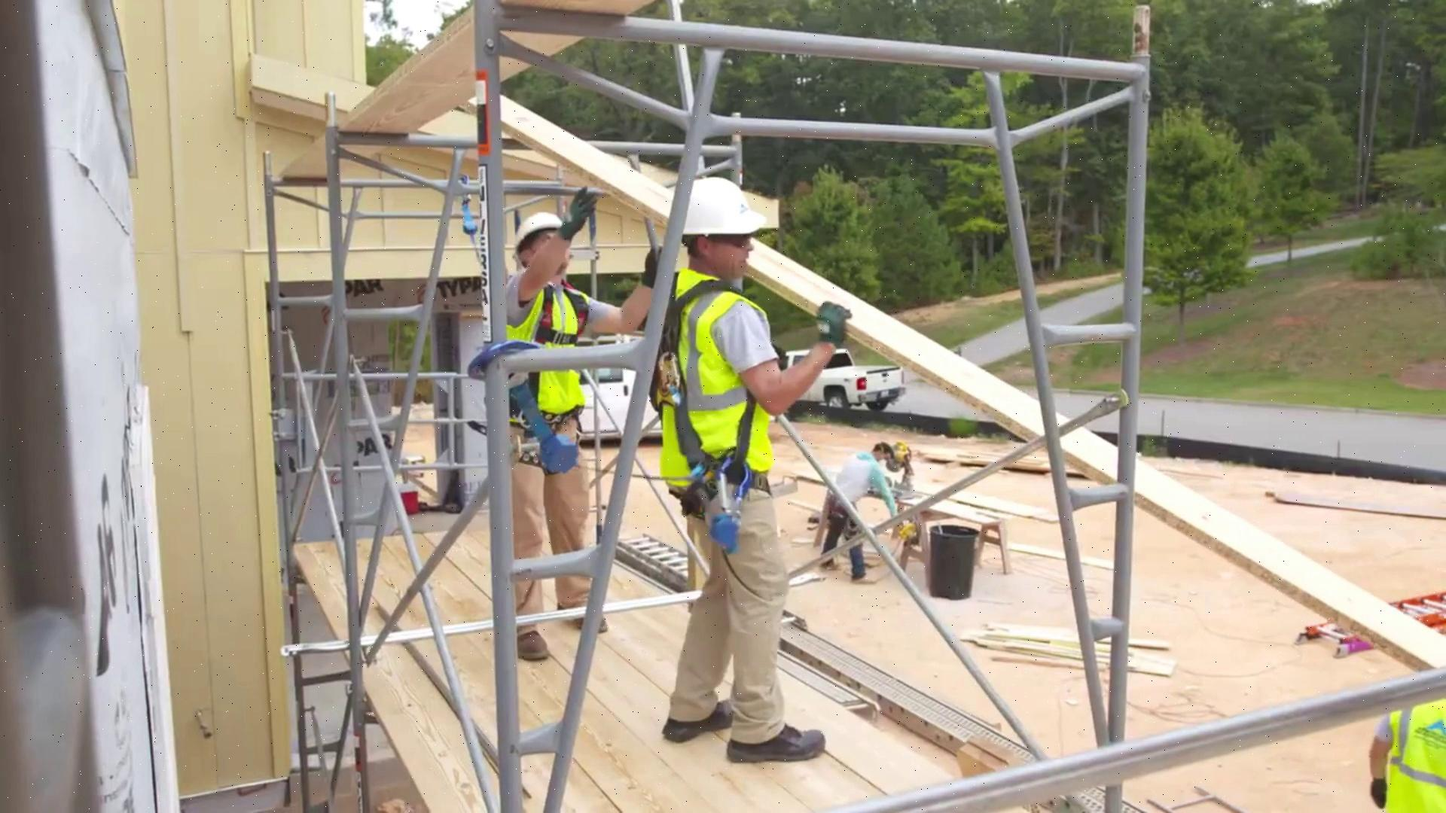Hard_hat: (673, 174, 766, 238), (510, 213, 558, 251)
Vest: (662, 270, 777, 496), (499, 285, 593, 432), (1370, 678, 1446, 813)
